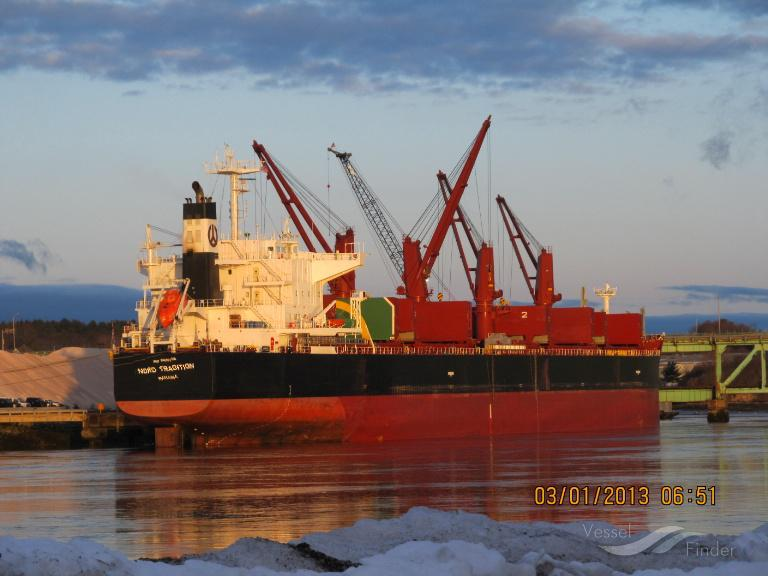OCR: (126, 354, 194, 393)
